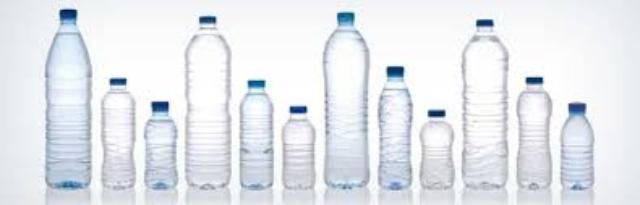plastic: (462, 19, 509, 196), (45, 10, 91, 188), (184, 16, 230, 191), (324, 13, 368, 186), (378, 66, 412, 192), (517, 78, 551, 190), (100, 78, 134, 190), (240, 81, 272, 190), (283, 105, 316, 194), (144, 102, 177, 190), (420, 110, 454, 192), (561, 104, 593, 190)
